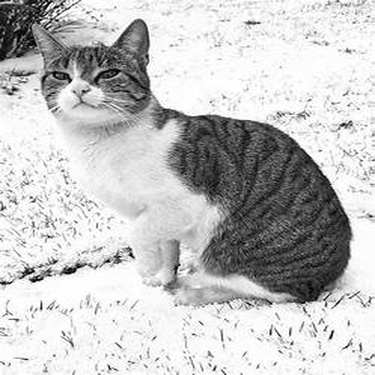cat: (30, 19, 352, 310)
